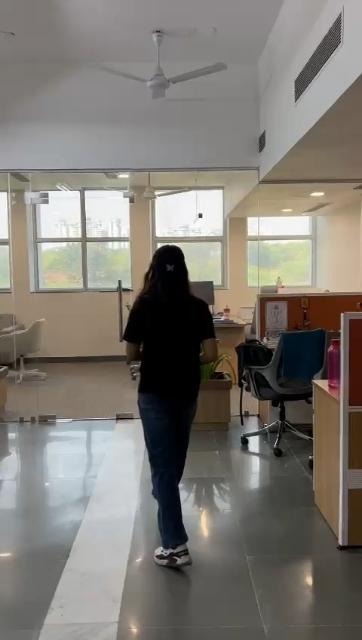floor: (4, 392, 132, 640), (211, 458, 310, 600), (124, 584, 362, 640)
moving-obj: (95, 225, 255, 579)
object: (246, 318, 324, 464), (0, 299, 44, 389)
wall: (45, 298, 113, 357), (324, 190, 362, 294), (225, 183, 249, 311), (9, 195, 33, 323), (126, 200, 152, 272)
